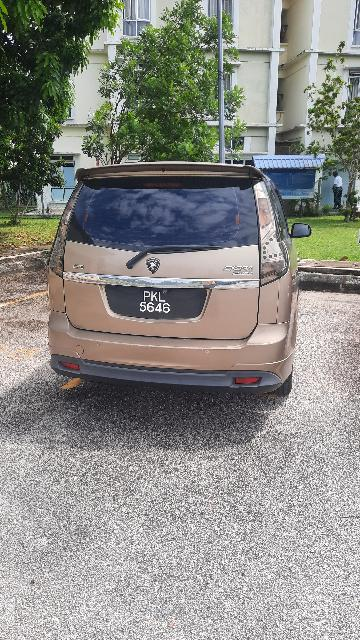License_Plate: (103, 285, 212, 321)
car: (45, 162, 307, 397)
